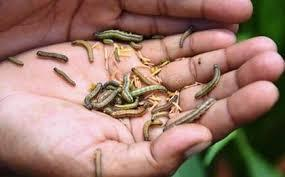fallarmy_worm: (192, 63, 227, 98), (69, 36, 98, 62), (50, 66, 76, 89), (32, 47, 69, 62), (142, 116, 163, 142), (109, 106, 151, 119), (83, 82, 99, 109), (128, 66, 149, 83), (179, 25, 192, 52), (129, 84, 172, 92)
